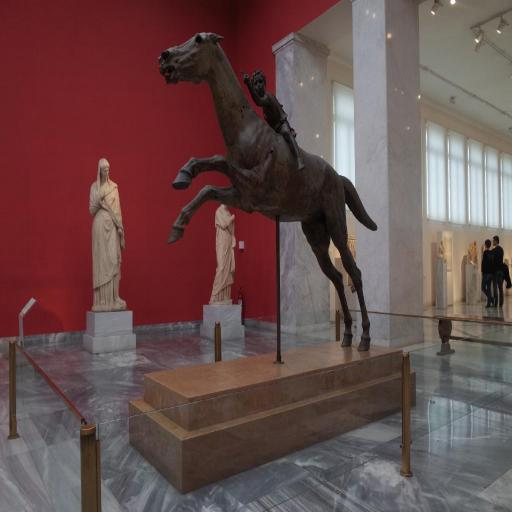Horse: (156, 29, 379, 353)
